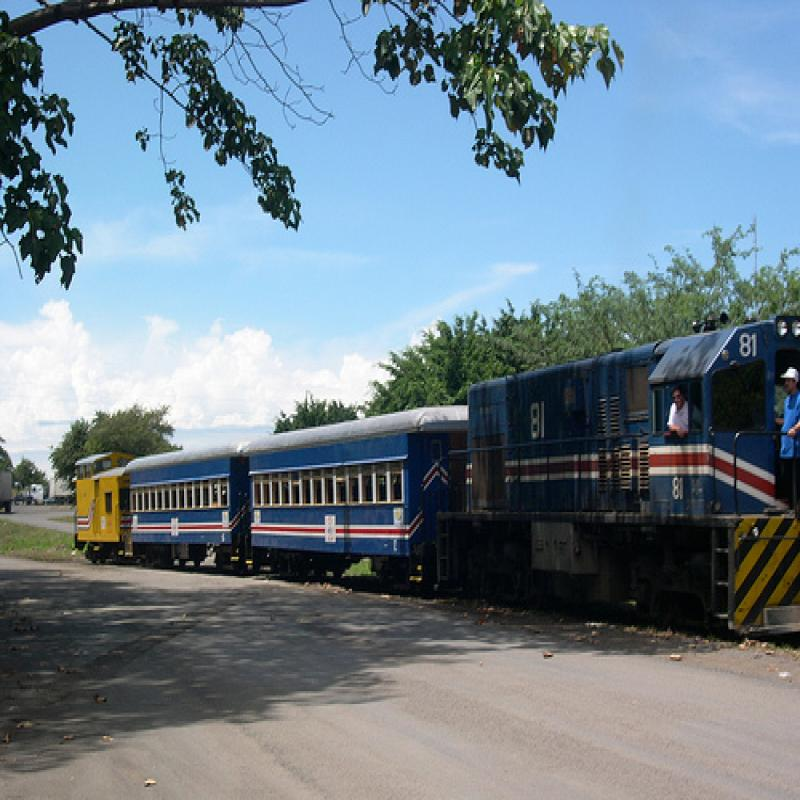train: (78, 313, 799, 648)
